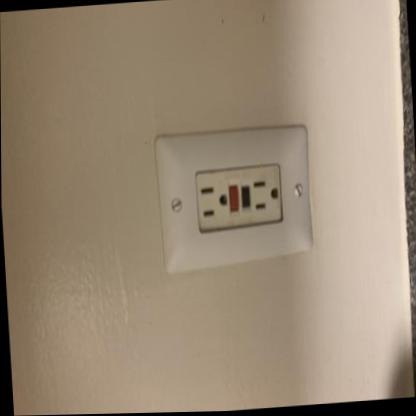OUTLET: (154, 121, 312, 263)
